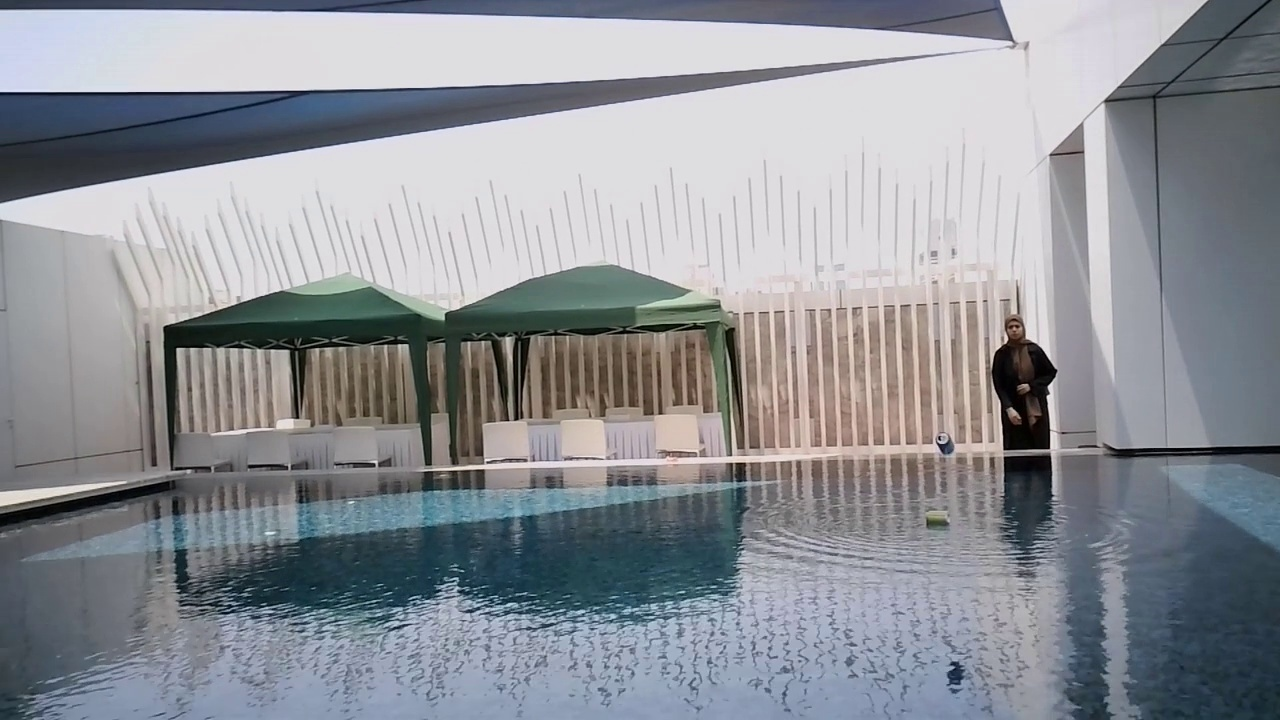debris: (921, 502, 953, 529), (935, 430, 956, 456), (661, 455, 681, 464)
